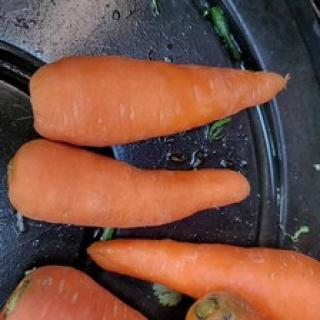carrot: (27, 50, 295, 148), (8, 137, 250, 227), (83, 238, 320, 320)
